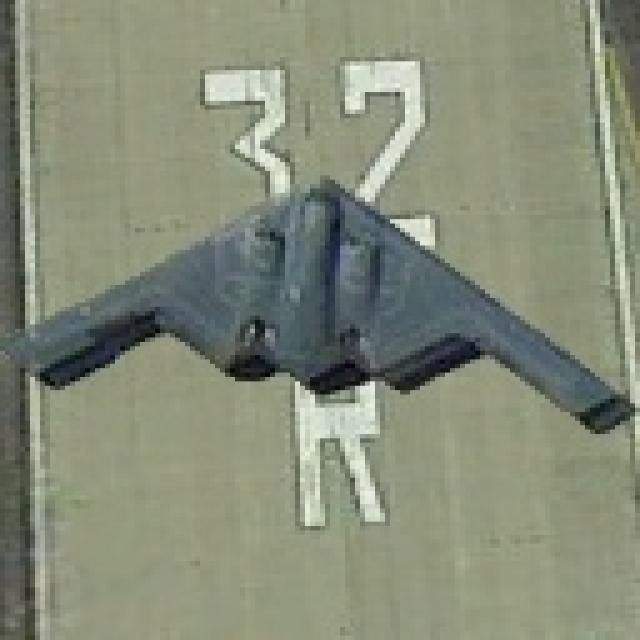B-2_TopDown: (4, 162, 635, 446)
